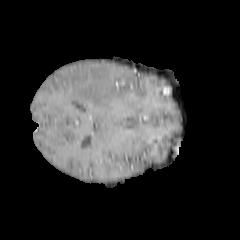glioma: (63, 68, 127, 110)
